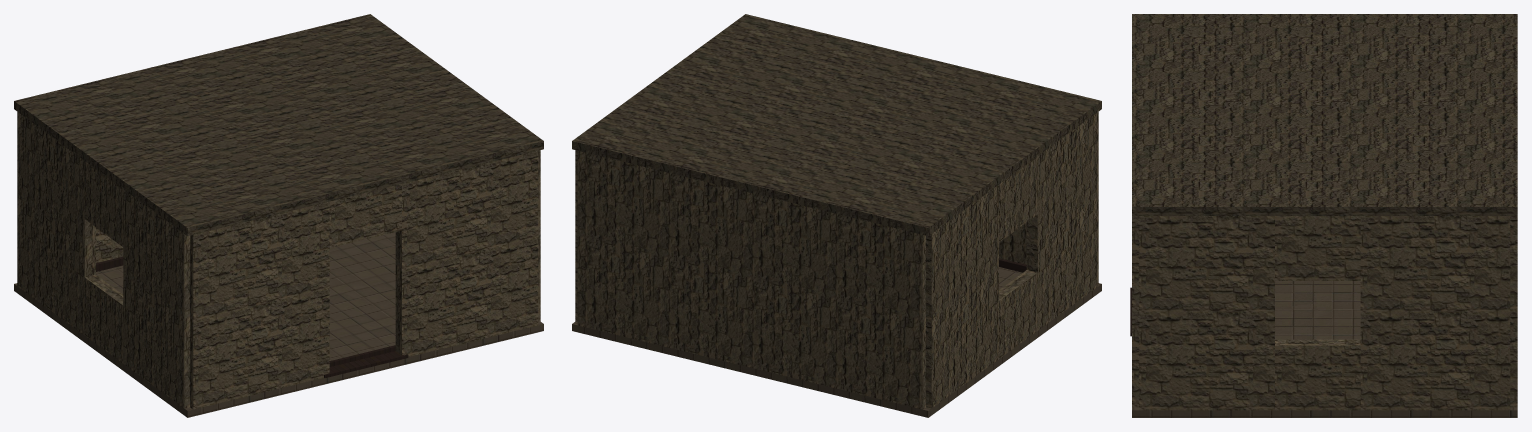
File: int_dungeon_gate_01.glb
3 renders of one model, left to right at view 1: azimuth 30°, elevation 25°; view 2: azimuth 150°, elevation 25°; view 3: azimuth 270°, elevation 25°, orthographic. The views are drawn at different scales.
Visible parts, largest first — view 1: int_dungeon_gate_01; view 2: int_dungeon_gate_01; view 3: int_dungeon_gate_01.
Boxes of the visible parts, box(x1,y1,x2,y2) form: int_dungeon_gate_01: box(14, 14, 543, 417); int_dungeon_gate_01: box(572, 14, 1101, 417); int_dungeon_gate_01: box(1130, 14, 1517, 417).
Bounding box in the file's own units: 6.4 × 3.26 × 5.42.
Materials: 5 (5 with a texture image).
